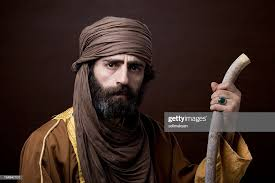middle_eastern_male: (83, 43, 162, 115)
